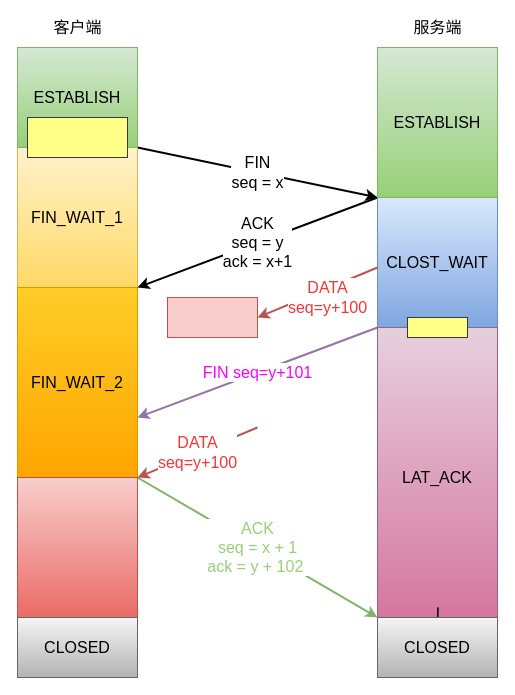
The diagram is 515 pixels wide and 695 high, and some of its shapes have lost their labels. Each missing label, with the centre of its shape:
"close()" goes at point (437, 327).
"shutdown() 关闭写方向" goes at point (77, 137).
"TIME_WAIT" goes at point (77, 547).
"被网络延迟" goes at point (212, 317).
